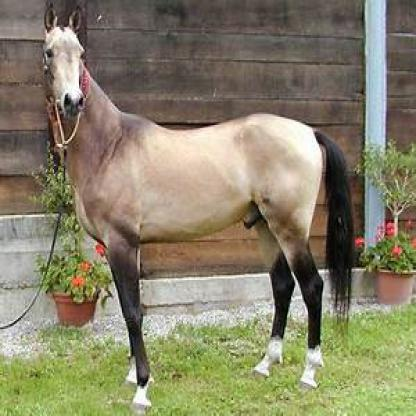horse: (44, 5, 355, 414)
